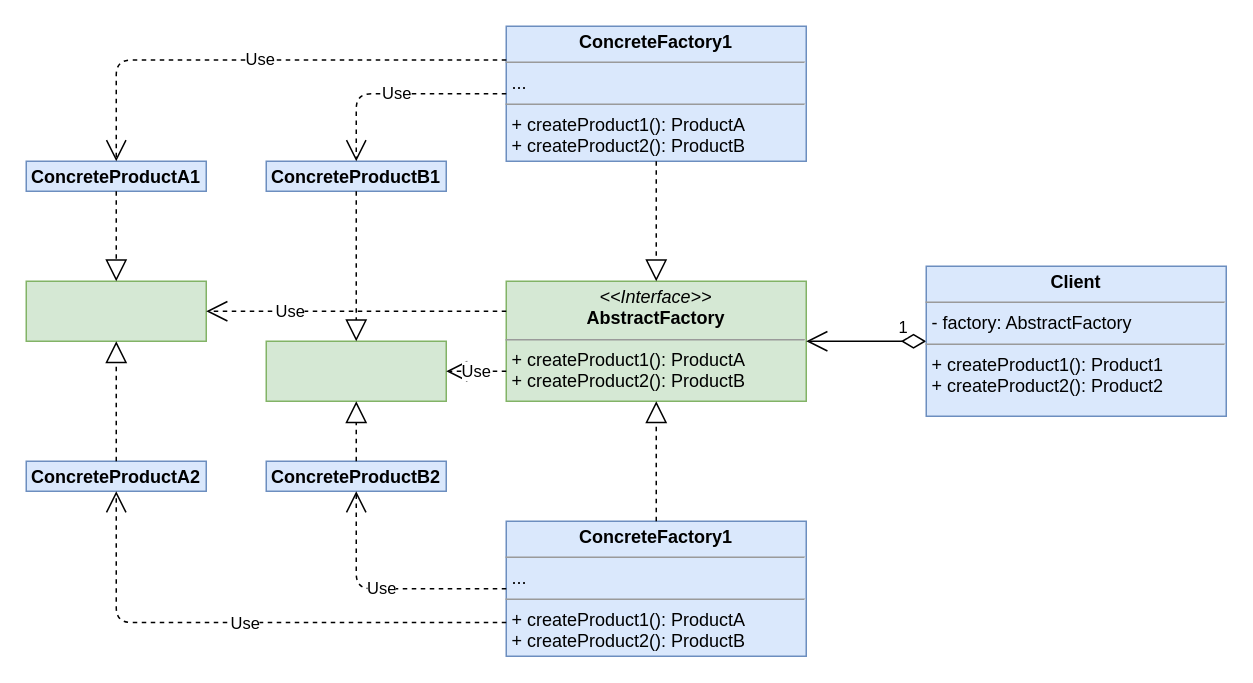
Some shapes in this 1253 by 683 pixel diagram are drawn without their labels. Here are the shapes that lost their labels. From the top down, the box of each, then its label:
(25, 280, 206, 341): <<Interface>> ProductA
(265, 340, 446, 401): <<Interface>> ProductB
